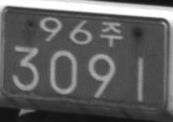0: (48, 49, 78, 95)
1: (127, 56, 154, 102)
3: (12, 44, 39, 92)
6: (70, 20, 92, 45)
9: (87, 52, 116, 98), (39, 16, 62, 42)
주: (100, 20, 123, 48)
